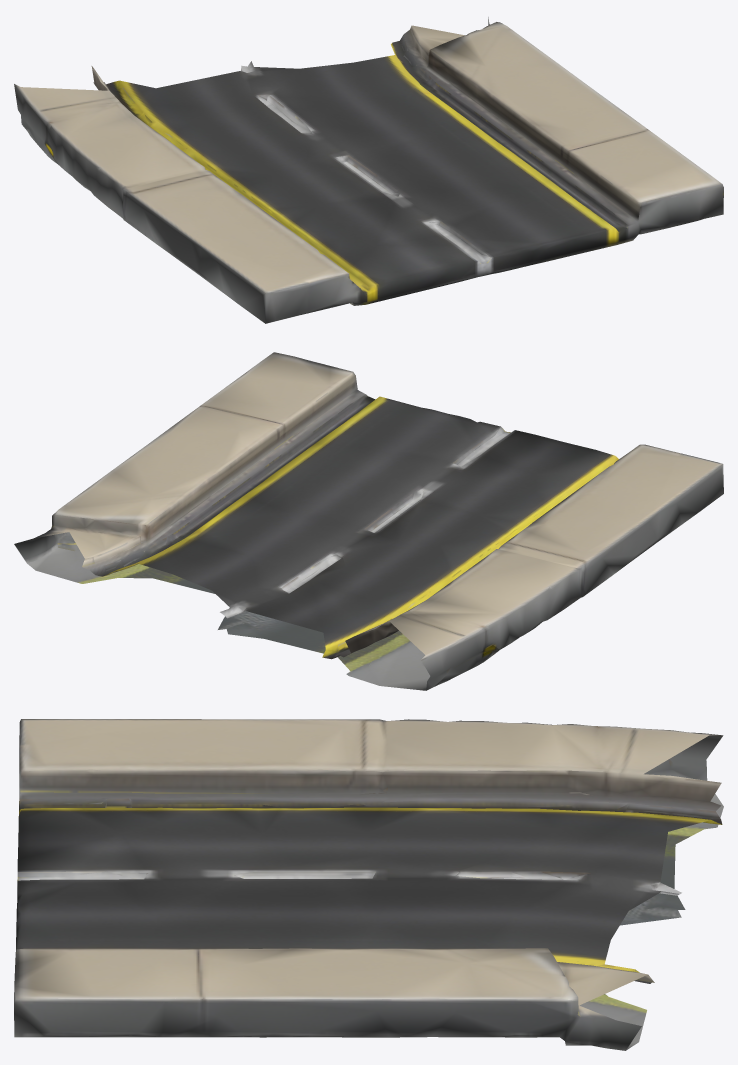
The model's file is yoldeneme.fbx.
3 renders of one model, top to bottom at view 1: azimuth 30°, elevation 25°; view 2: azimuth 150°, elevation 25°; view 3: azimuth 270°, elevation 25°, orthographic. The views are drawn at different scales.
Visible parts, largest first — view 1: Mesh_0.004; view 2: Mesh_0.004; view 3: Mesh_0.004.
Boxes of the visible parts, bbox=[...] form: Mesh_0.004: bbox=[14, 17, 723, 323]; Mesh_0.004: bbox=[14, 352, 723, 690]; Mesh_0.004: bbox=[14, 719, 723, 1050].
Bounding box in the file's own units: 84.15 × 6.53 × 87.4.
Materials: 1 (1 with a texture image).
